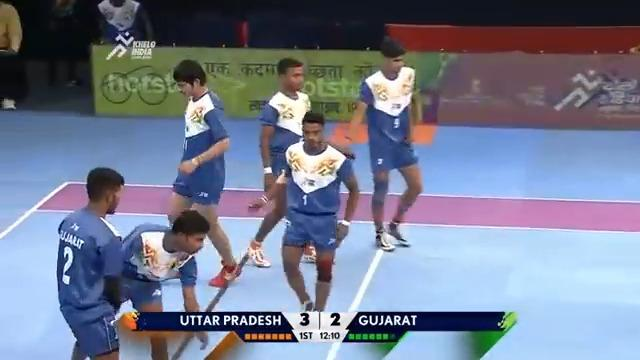Player: (262, 110, 358, 312), (166, 58, 241, 287), (345, 36, 424, 251), (247, 57, 316, 267), (55, 166, 127, 359), (118, 208, 210, 358)
referee: (0, 0, 24, 110)
